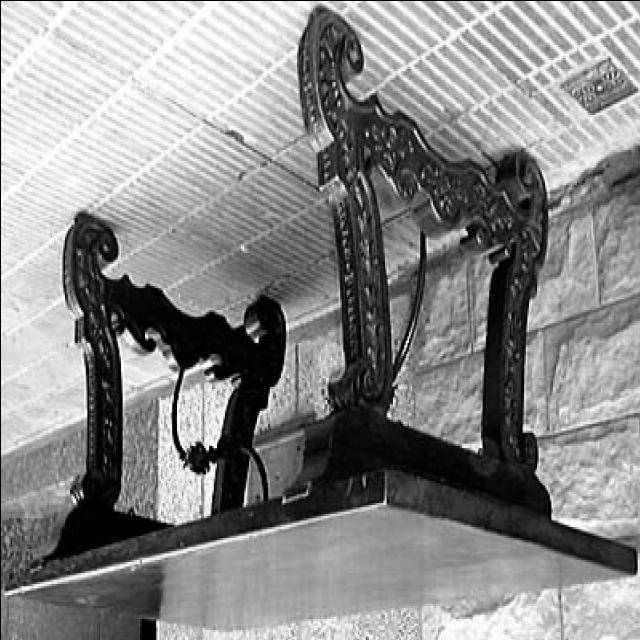table: (1, 7, 640, 631)
